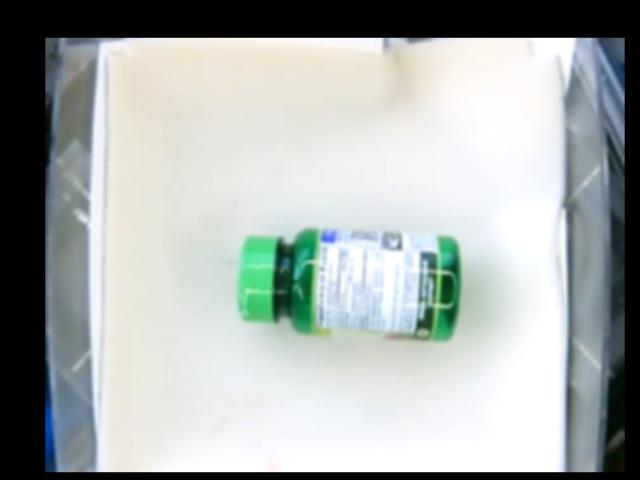Bottle: (238, 226, 458, 340)
